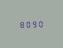eight: (18, 20, 23, 28)
nine: (30, 20, 35, 27)
zero: (24, 20, 29, 28), (36, 19, 41, 27)
